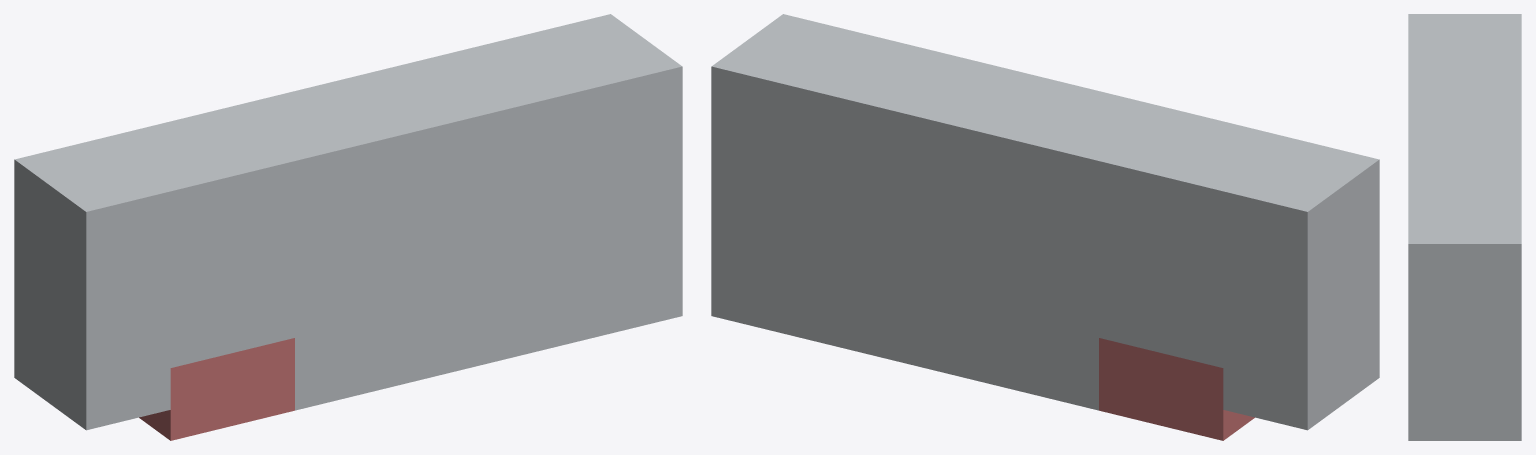
The model's file is step_03.glb.
3 renders of one model, left to right at view 1: azimuth 30°, elevation 25°; view 2: azimuth 150°, elevation 25°; view 3: azimuth 270°, elevation 25°, orthographic. The views are drawn at different scales.
Visible parts, largest first — view 1: part__slotted bar (four arrangements), removed__slotted bar (four arrangements); view 2: part__slotted bar (four arrangements), removed__slotted bar (four arrangements); view 3: part__slotted bar (four arrangements).
Part boxes in pixels (x1,y1,x2,y2): part__slotted bar (four arrangements): (14,14,682,430); removed__slotted bar (four arrangements): (139,338,294,440); part__slotted bar (four arrangements): (711,14,1379,430); removed__slotted bar (four arrangements): (1099,338,1254,440); part__slotted bar (four arrangements): (1408,14,1521,440).
Size of the model in its own units: 120 by 48 by 25.
